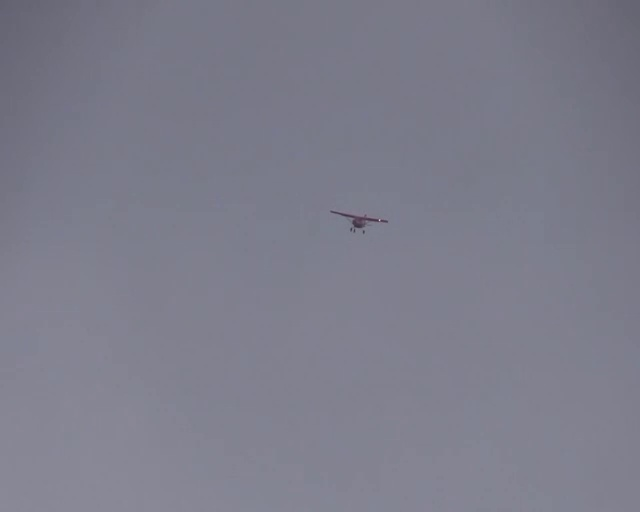AIRPLANE: (329, 209, 389, 234)
